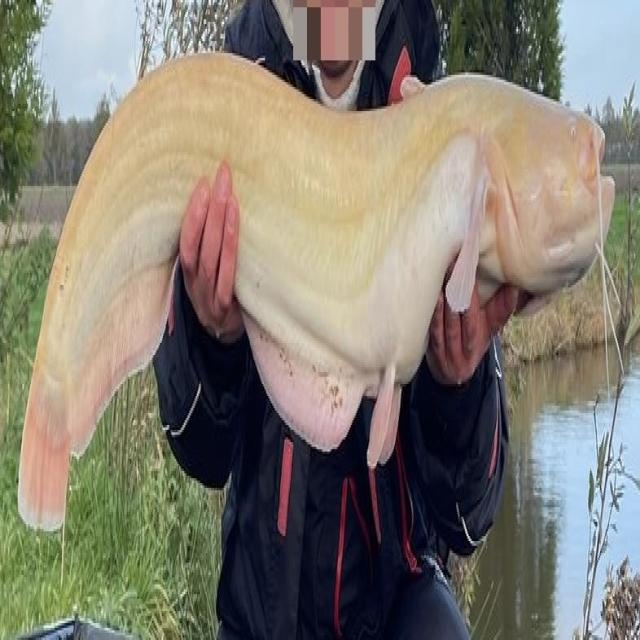Catfish: (19, 15, 624, 613)
